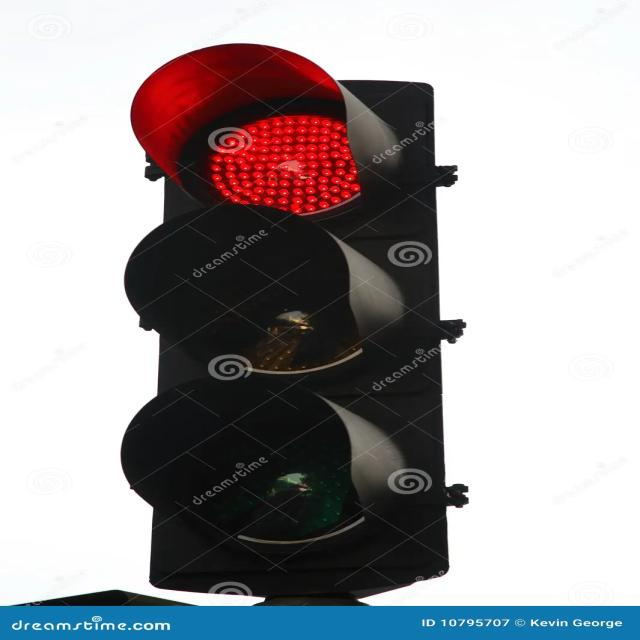red: (159, 71, 382, 222)
